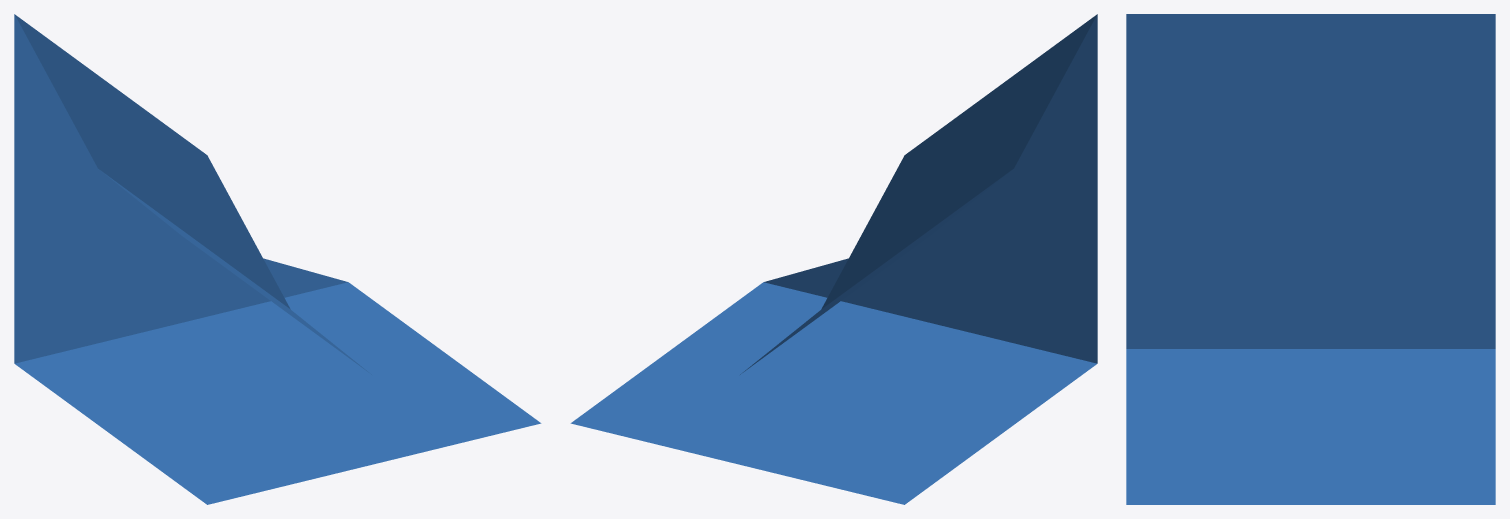
The model's file is r4c4_border_blue.gltf.
3 renders of one model, left to right at view 1: azimuth 30°, elevation 25°; view 2: azimuth 150°, elevation 25°; view 3: azimuth 270°, elevation 25°, orthographic. The views are drawn at different scales.
Visible parts, largest first — view 1: r4c4_border_blue; view 2: r4c4_border_blue; view 3: r4c4_border_blue.
Part boxes in pixels (left/top/right/bottom): r4c4_border_blue: left=14, top=14, right=541, bottom=504; r4c4_border_blue: left=570, top=14, right=1097, bottom=504; r4c4_border_blue: left=1126, top=14, right=1495, bottom=504.
Bounding box in the file's own units: 2.1 × 2.1 × 2.1.
1 material, 1 textured.
